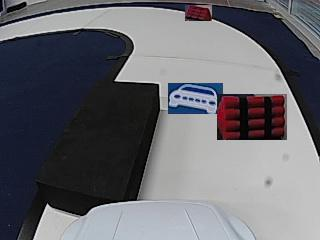block: (39, 81, 159, 202)
